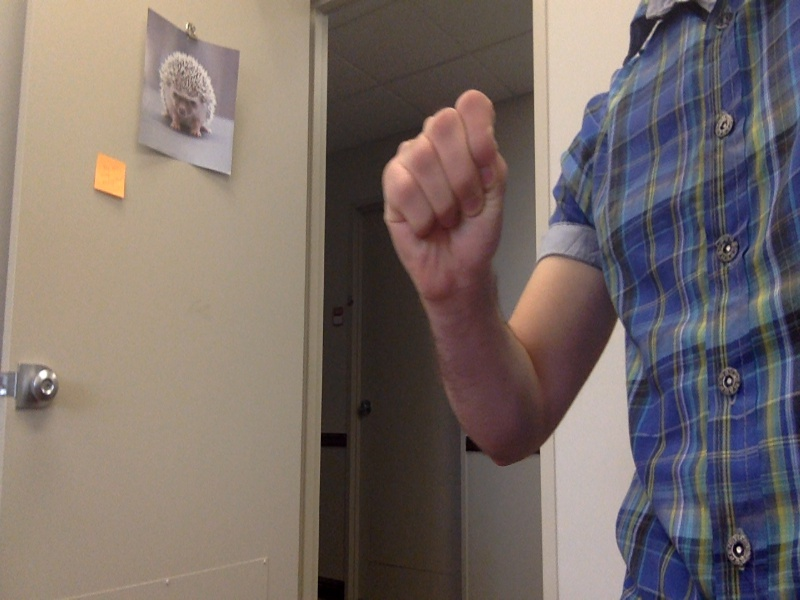0-hand: (373, 87, 510, 293)
